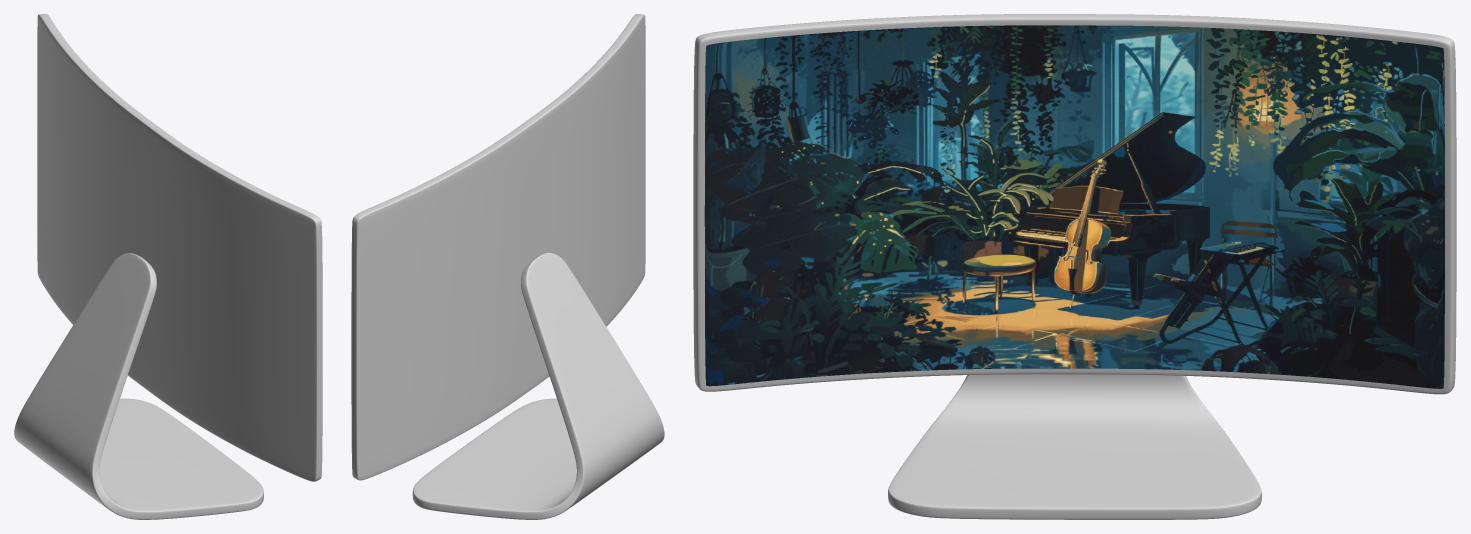
File: ChillComputer.glb
3 renders of one model, left to right at view 1: azimuth 30°, elevation 25°; view 2: azimuth 150°, elevation 25°; view 3: azimuth 270°, elevation 25°, orthographic. The views are drawn at different scales.
Visible parts, largest first — view 1: Plane.017, Plane.011; view 2: Plane.017, Plane.011; view 3: Plane.017, Plane.011.
Boxes of the visible parts, x1,y1,x2,y2 form: Plane.017: (37,14,322,481); Plane.011: (14,253,263,519); Plane.017: (351,14,645,480); Plane.011: (412,253,664,519); Plane.017: (693,14,1456,394); Plane.011: (888,374,1261,519).
Size of the model in its own units: 0.6207 by 1.3 by 1.95.
Materials: 2 (1 with a texture image).
